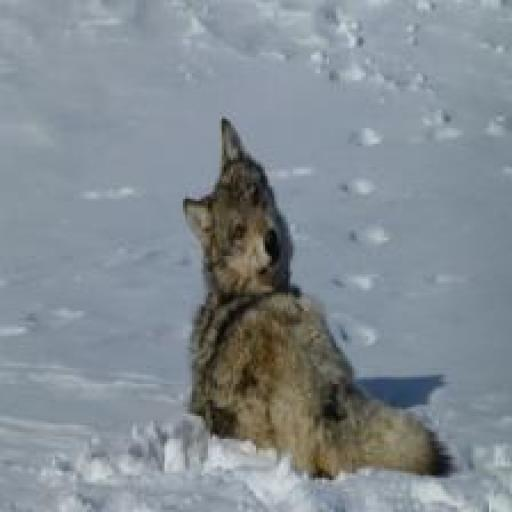wolf: (171, 105, 455, 512)
